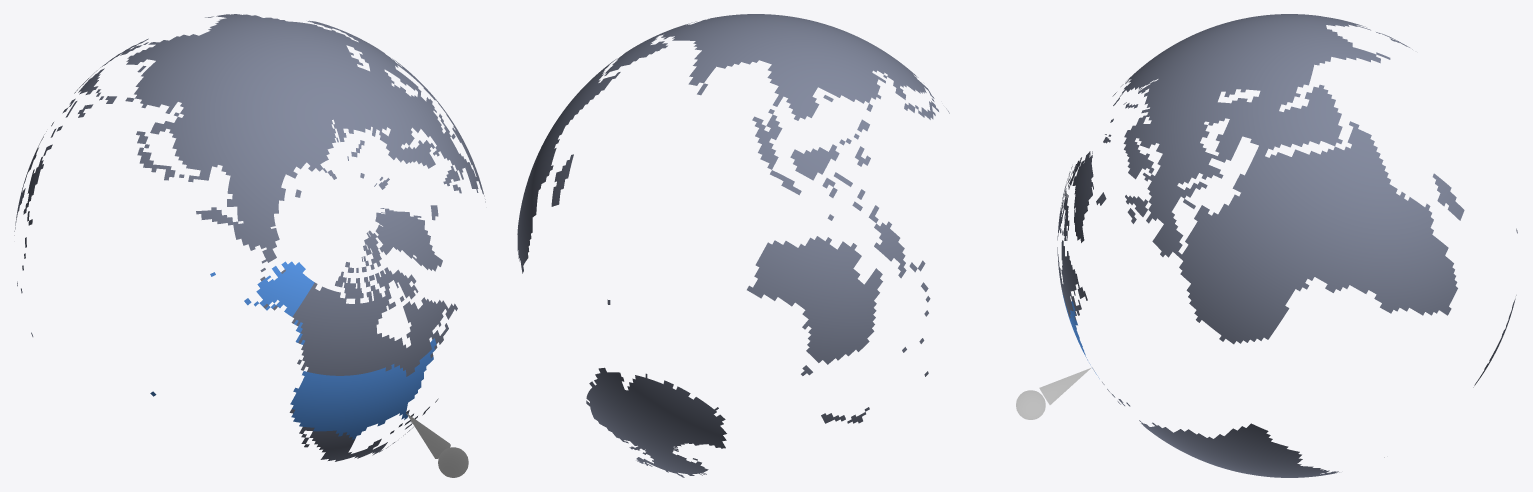
File: usa-globe.glb
The picture shows the model from 3 angles, left to right: view 1: azimuth 30°, elevation 25°; view 2: azimuth 150°, elevation 25°; view 3: azimuth 270°, elevation 25°; orthographic projection. The views are drawn at different scales.
Parts seen in each view (by area): view 1: world, usa, pin; view 2: world; view 3: world, pin.
Boxes of the visible parts, x1=… form: world: x1=14, y1=14, x2=485, y2=461; usa: x1=150, y1=261, x2=436, y2=439; pin: x1=406, y1=413, x2=468, y2=477; world: x1=517, y1=14, x2=949, y2=477; world: x1=1057, y1=14, x2=1517, y2=477; pin: x1=1016, y1=368, x2=1090, y2=419.
Size of the model in its own units: 1.97 by 1.94 by 2.17.
